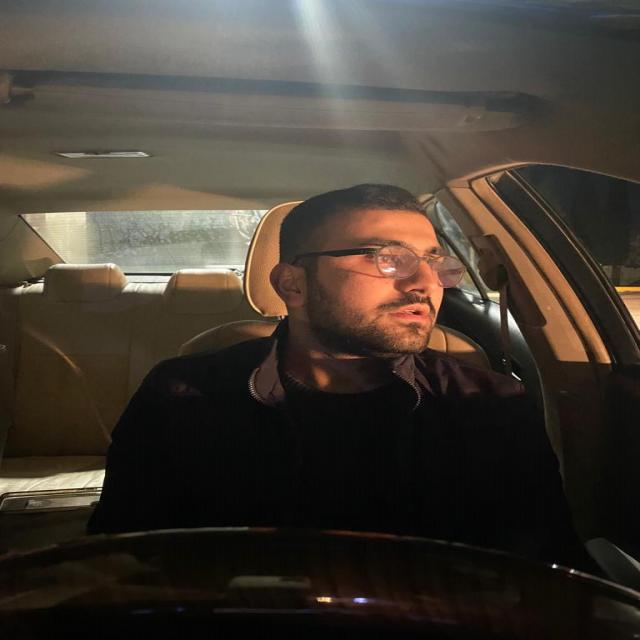person: (263, 169, 467, 386)
